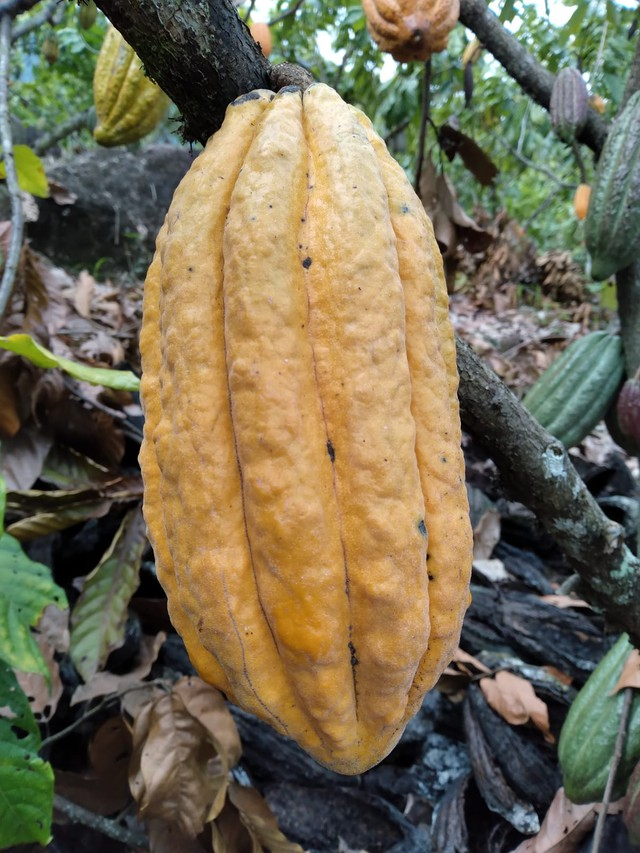Health: (122, 77, 486, 790)
